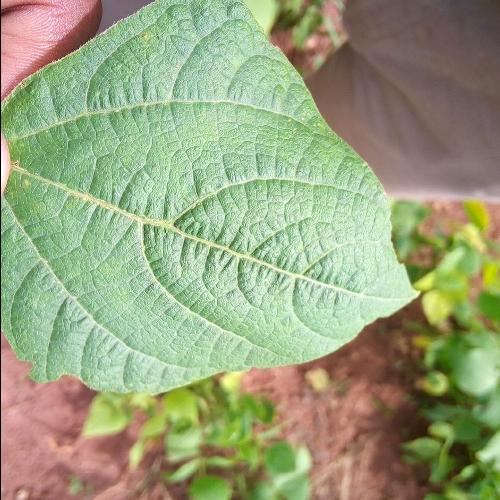sehat: (71, 96, 270, 335)
